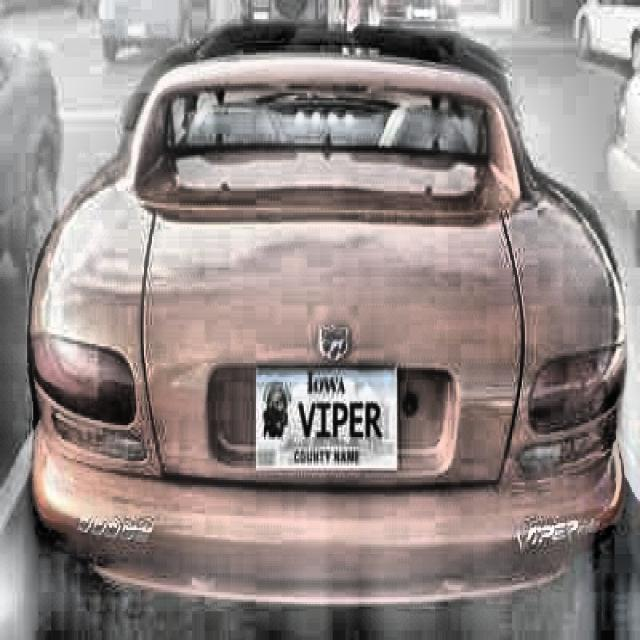license_plate: (259, 368, 394, 461)
